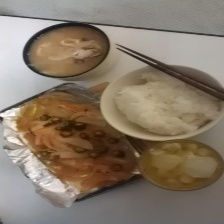rice: (107, 68, 222, 138)
